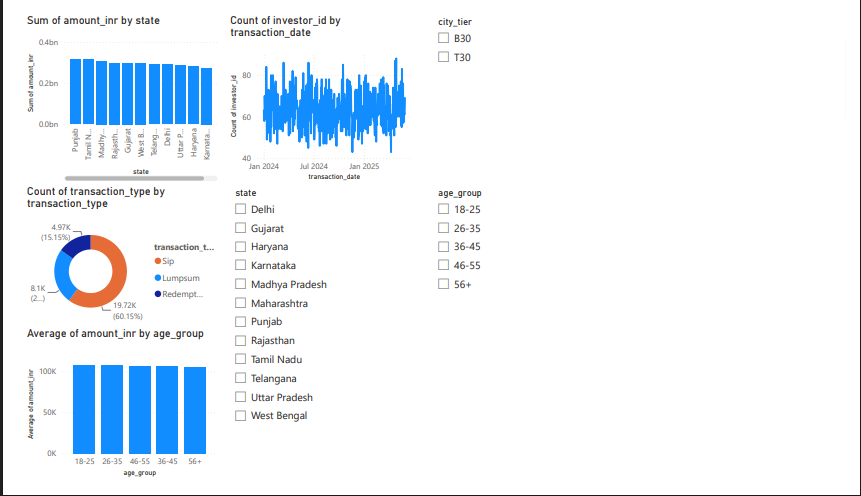

The page's visual inventory and layout, read from the dashboard file:
{"tool":"powerbi","page":{"name":"Investor Analytics","canvas":[1280,720],"ordinal":2},"visuals":[{"type":"columnChart","fields":{"Category":["fact_transactions.state"],"Y":["Sum(fact_transactions.amount_inr)"]},"box":[10,0,304,264],"z":0},{"type":"donutChart","fields":{"Category":["fact_transactions.transaction_type"],"Y":["CountNonNull(fact_transactions.transaction_type)"]},"box":[10,264,304,220],"z":1000},{"type":"columnChart","fields":{"Category":["fact_transactions.age_group"],"Y":["Avg(fact_transactions.amount_inr)"]},"box":[10,484,304,236],"z":2000},{"type":"lineChart","fields":{"Category":["fact_transactions.transaction_date"],"Y":["CountNonNull(fact_transactions.investor_id)"]},"box":[324,0,304,264],"z":3000},{"type":"slicer","fields":{"Values":["fact_transactions.state"]},"box":[324,264,304,404],"z":4000},{"type":"slicer","fields":{"Values":["fact_transactions.city_tier"]},"box":[638,0,304,264],"z":5000},{"type":"slicer","fields":{"Values":["fact_transactions.age_group"]},"box":[638,264,304,404],"z":6000}]}

Visuals, with their boxes in screenshot pixels (x1, y1, x2, y2), scaled from the page's 1280x720 canvas onto the 861x496 screenshot:
columnChart - fact_transactions.state x Sum(fact_transactions.amount_inr): [left=7, top=0, right=211, bottom=182]
donutChart - fact_transactions.transaction_type x CountNonNull(fact_transactions.transaction_type): [left=7, top=182, right=211, bottom=333]
columnChart - fact_transactions.age_group x Avg(fact_transactions.amount_inr): [left=7, top=333, right=211, bottom=495]
lineChart - fact_transactions.transaction_date x CountNonNull(fact_transactions.investor_id): [left=218, top=0, right=422, bottom=182]
slicer - fact_transactions.state: [left=218, top=182, right=422, bottom=460]
slicer - fact_transactions.city_tier: [left=429, top=0, right=634, bottom=182]
slicer - fact_transactions.age_group: [left=429, top=182, right=634, bottom=460]
